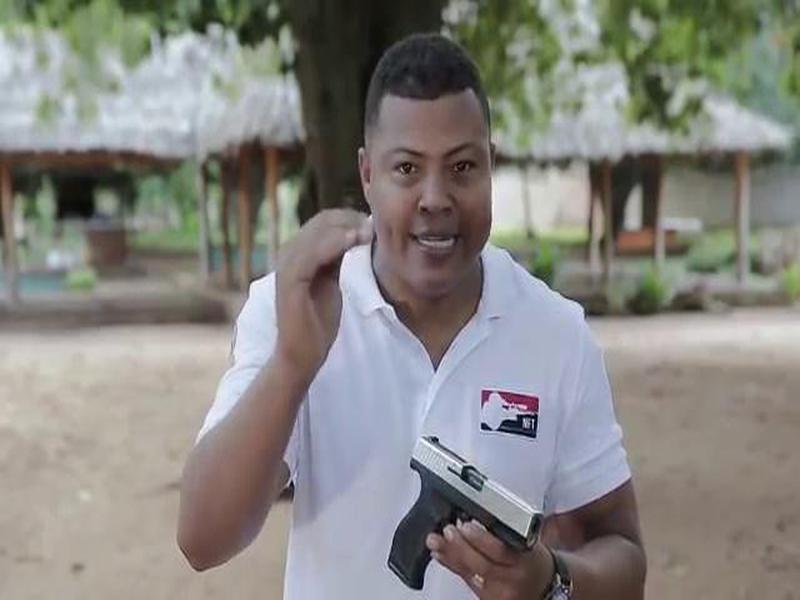Pistola: (376, 428, 553, 594)
